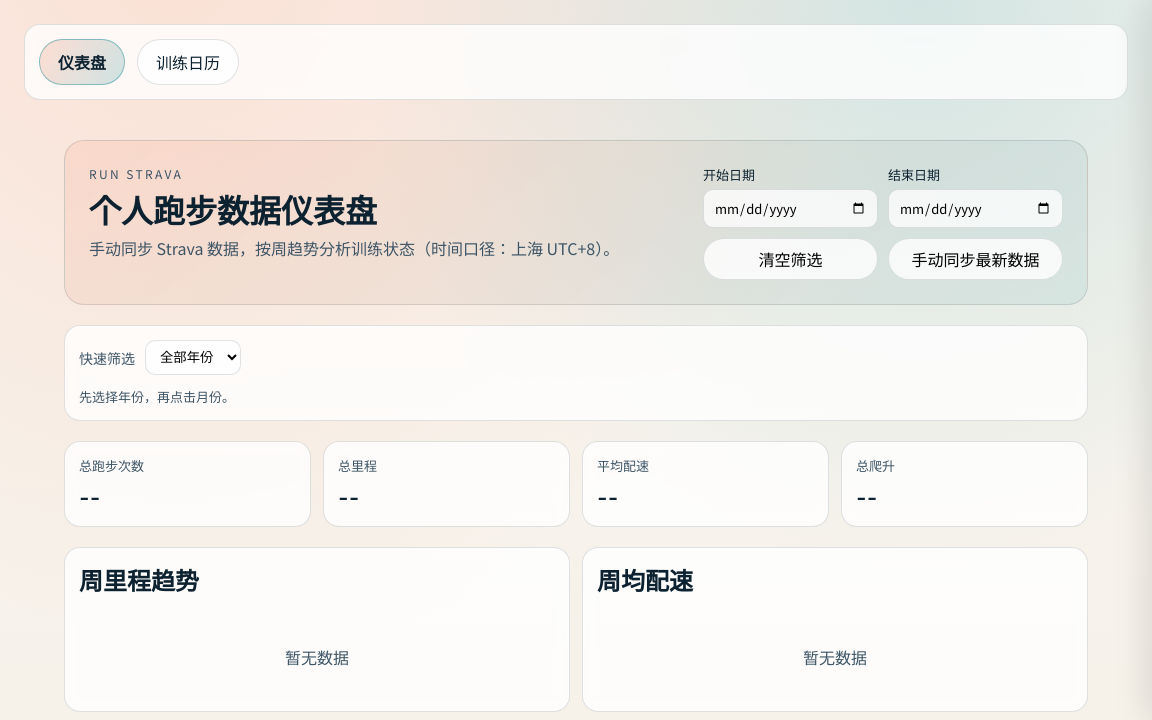
Test: App › manually syncs latest Strava data and refreshes dashboard
The width and height of the screenshot is (1152, 720).
Step 1. Click the button "手动同步最新数据" → (976, 259), box [888, 238, 1063, 280]
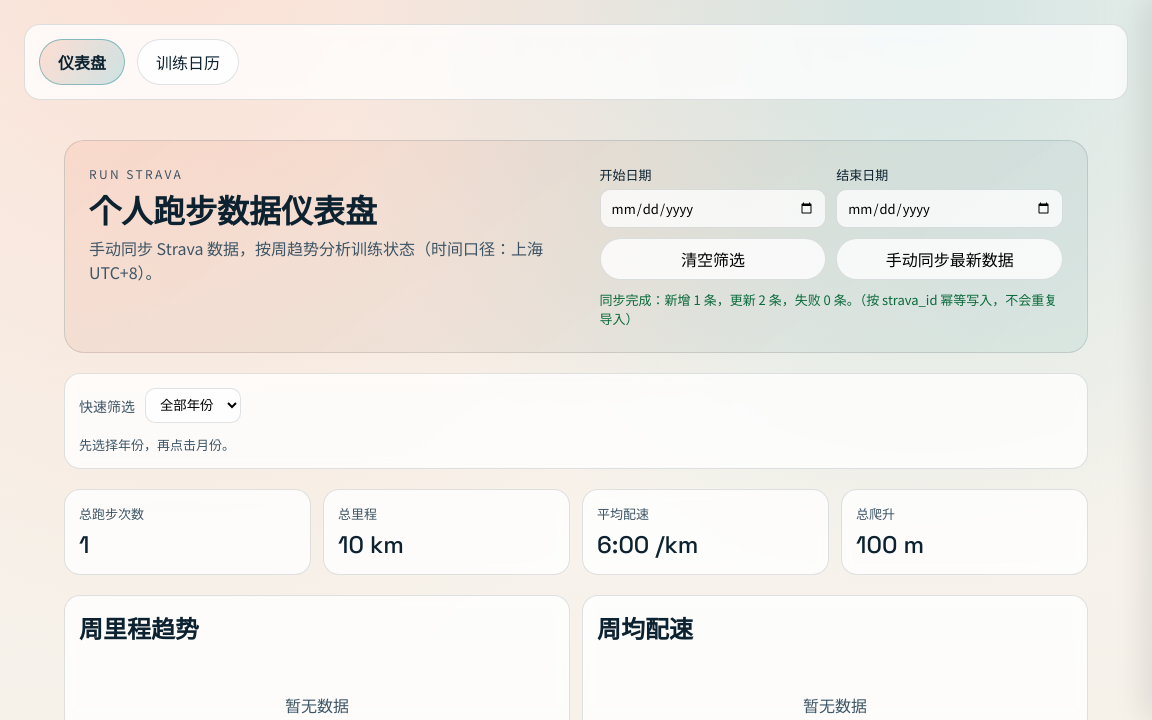
Check: the text "同步完成：新增 1 条，更新 2 条，失败 0 条。（按 strava_id 幂等写入，不会重复导入）" is shown, box [600, 290, 1063, 328]
